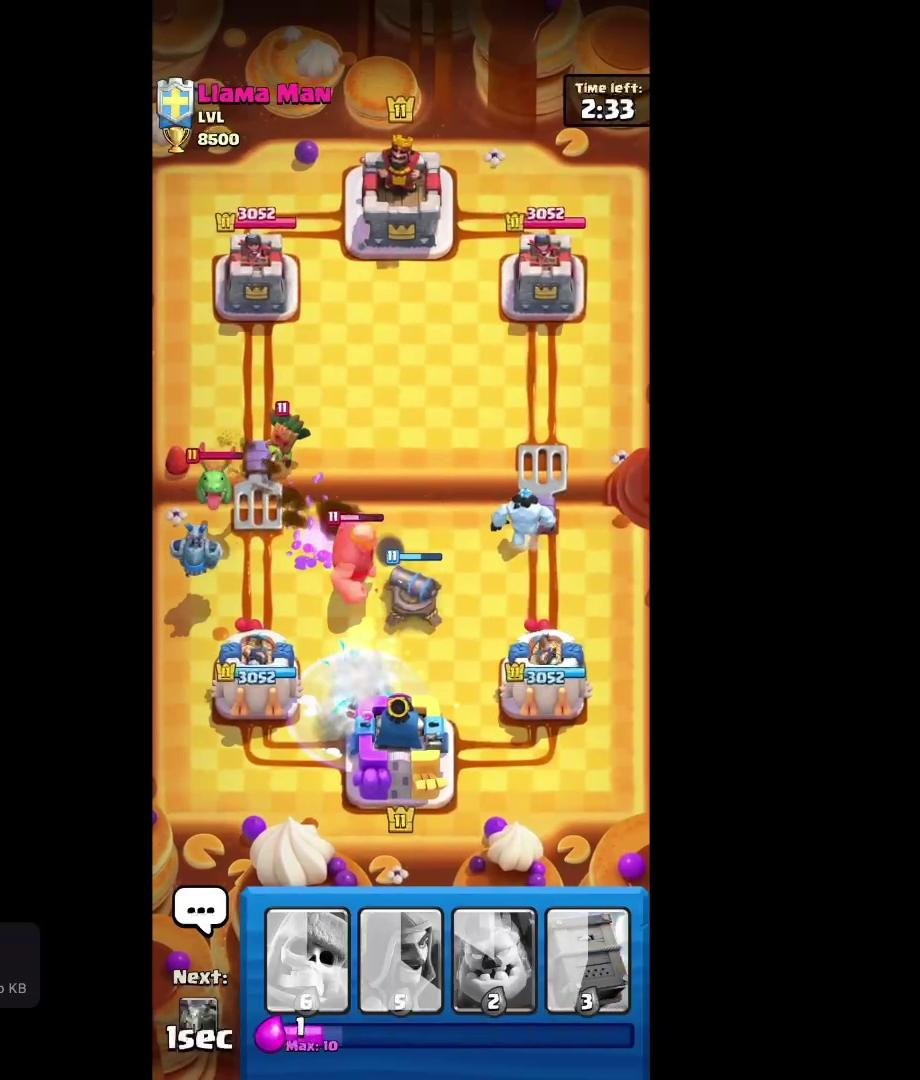Baby Dragon: (170, 443, 255, 518)
Dart Goblin: (246, 397, 315, 473)
Giant: (306, 503, 400, 612)
